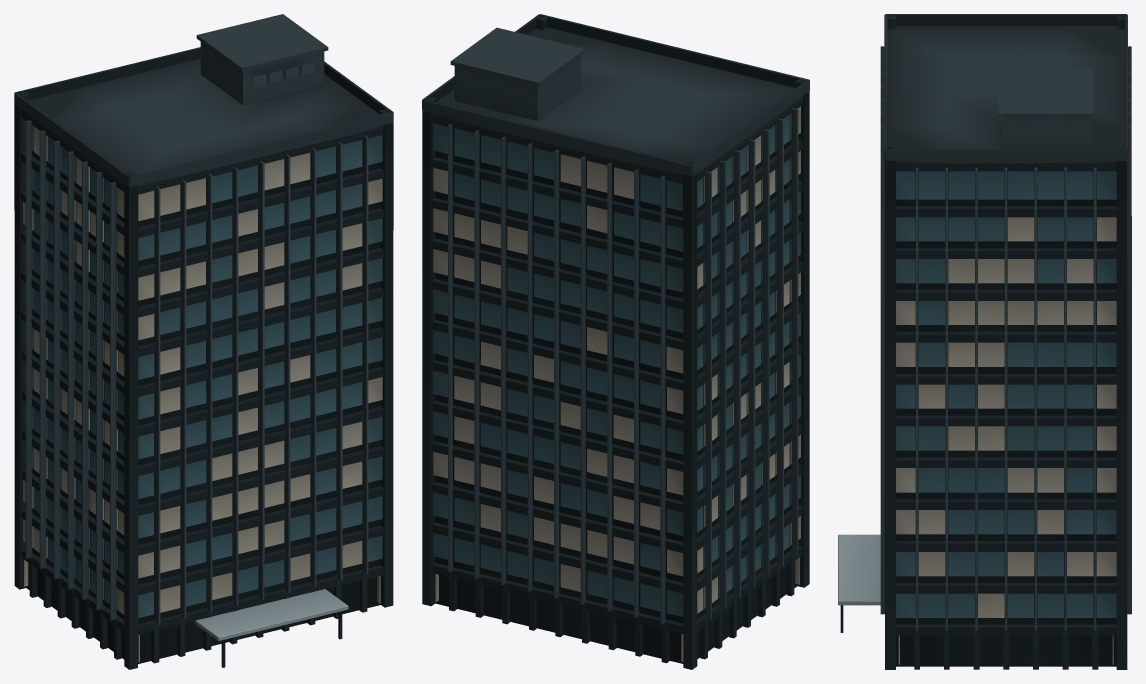
Rendered from district-props-v3.glb.
The picture shows the model from 3 angles, left to right: view 1: azimuth 30°, elevation 25°; view 2: azimuth 150°, elevation 25°; view 3: azimuth 270°, elevation 25°; orthographic projection. The views are drawn at different scales.
Parts seen in each view (by area): view 1: Tower, TowerGlass, TowerLit; view 2: Tower, TowerGlass, TowerLit; view 3: Tower, TowerGlass, TowerLit.
Part boxes in pixels (x1,y1,x2,y2): Tower: [14, 14, 393, 669]; TowerGlass: [23, 118, 382, 617]; TowerLit: [23, 126, 382, 662]; Tower: [422, 14, 809, 669]; TowerGlass: [433, 114, 800, 616]; TowerLit: [433, 106, 800, 661]; Tower: [838, 14, 1131, 669]; TowerGlass: [896, 171, 1116, 617]; TowerLit: [896, 217, 1116, 664].
Bounding box in the file's own units: 33.41 × 62.22 × 29.7.
